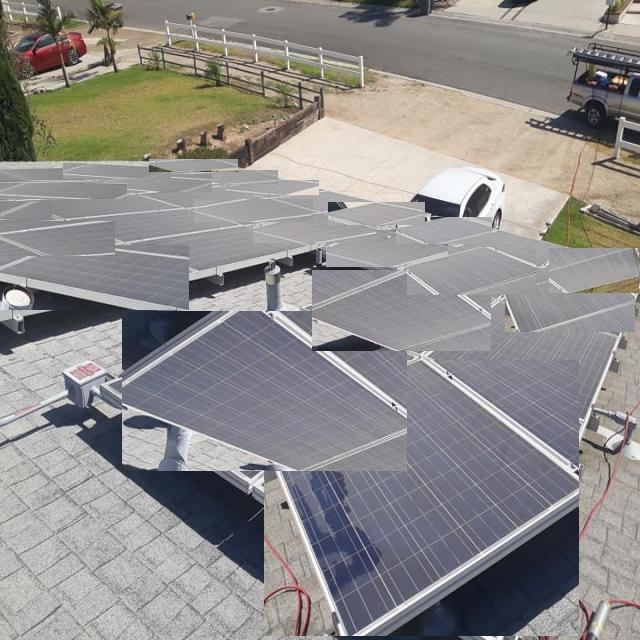Dusty: (265, 360, 579, 636), (123, 311, 407, 471), (433, 301, 615, 417), (312, 271, 491, 351), (0, 245, 189, 310), (505, 268, 635, 332), (134, 226, 303, 269), (407, 247, 536, 295), (75, 211, 236, 241), (327, 230, 448, 267), (549, 248, 639, 293), (0, 222, 115, 256), (22, 195, 180, 218), (254, 214, 376, 243), (195, 200, 313, 222), (397, 217, 492, 244), (328, 203, 425, 225), (144, 188, 259, 206), (0, 183, 127, 199), (274, 191, 371, 211), (100, 175, 212, 192), (63, 164, 171, 179), (227, 180, 319, 195), (189, 170, 278, 184), (149, 160, 238, 172), (0, 169, 85, 181), (1, 202, 52, 220)
